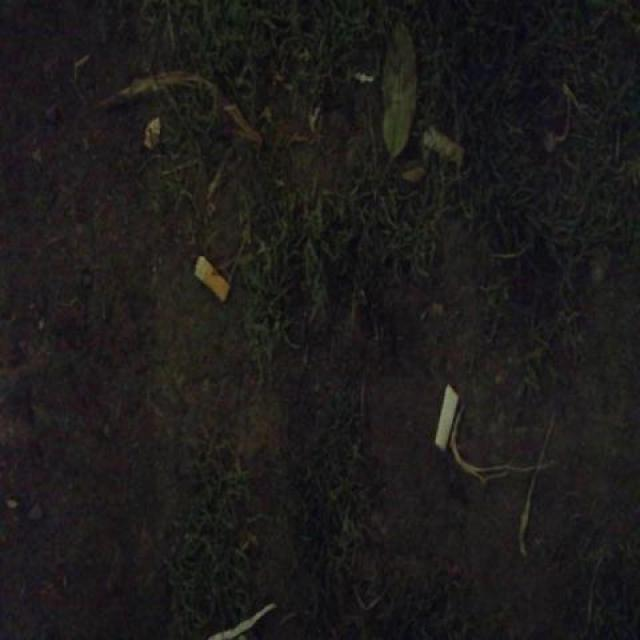non-organic waste: (188, 249, 232, 311), (416, 121, 467, 174), (430, 382, 462, 454)
